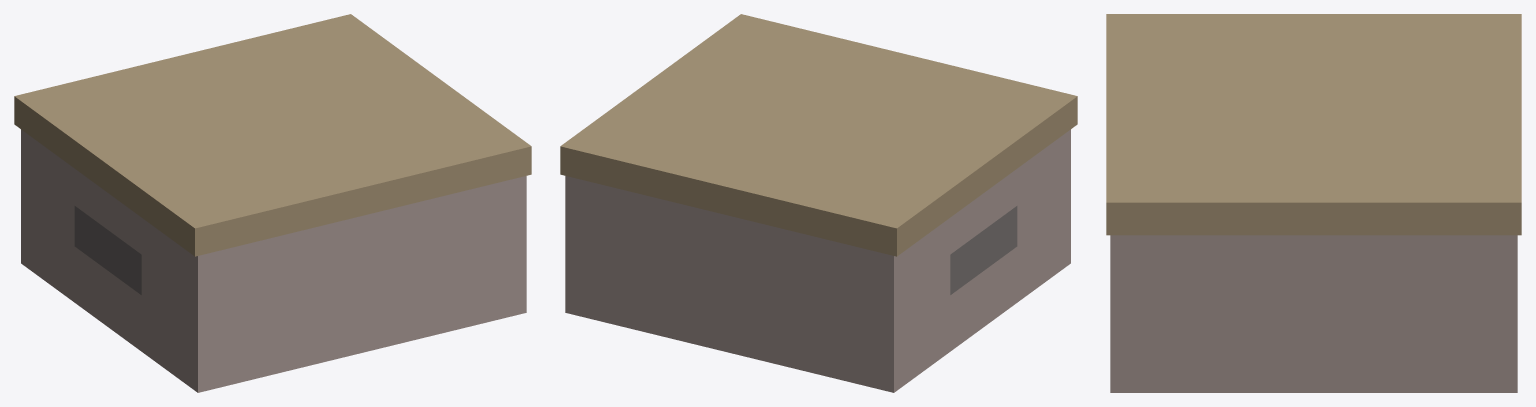
3 views of the same model, side by side, from view 1: azimuth 30°, elevation 25°; view 2: azimuth 150°, elevation 25°; view 3: azimuth 270°, elevation 25° (orthographic). The views are drawn at different scales.
Parts seen in each view (by area): view 1: SM_Box_01; view 2: SM_Box_01; view 3: SM_Box_01.
Boxes of the visible parts, x1,y1,x2,y2 form: SM_Box_01: [14, 14, 531, 392]; SM_Box_01: [560, 14, 1077, 392]; SM_Box_01: [1106, 14, 1521, 392].
Bounding box in the file's own units: 46.52 × 22.05 × 43.27.
1 material, 1 textured.
